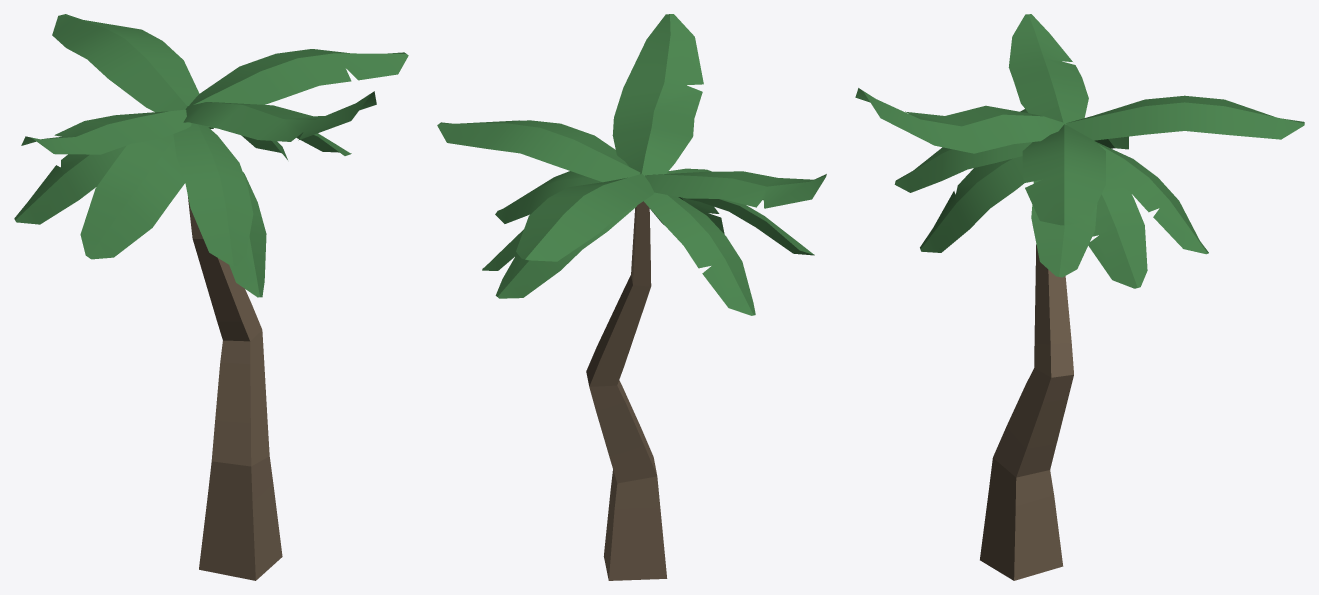
Rendered from tree 1.glb.
3 renders of one model, left to right at view 1: azimuth 30°, elevation 25°; view 2: azimuth 150°, elevation 25°; view 3: azimuth 270°, elevation 25°, orthographic. The views are drawn at different scales.
Visible parts, largest first — view 1: Plane.033; view 2: Plane.033; view 3: Plane.033.
Boxes of the visible parts, bbox=[...] form: Plane.033: bbox=[14, 14, 408, 580]; Plane.033: bbox=[437, 14, 826, 580]; Plane.033: bbox=[855, 14, 1304, 580].
Size of the model in its own units: 3.06 by 3.83 by 3.14.
